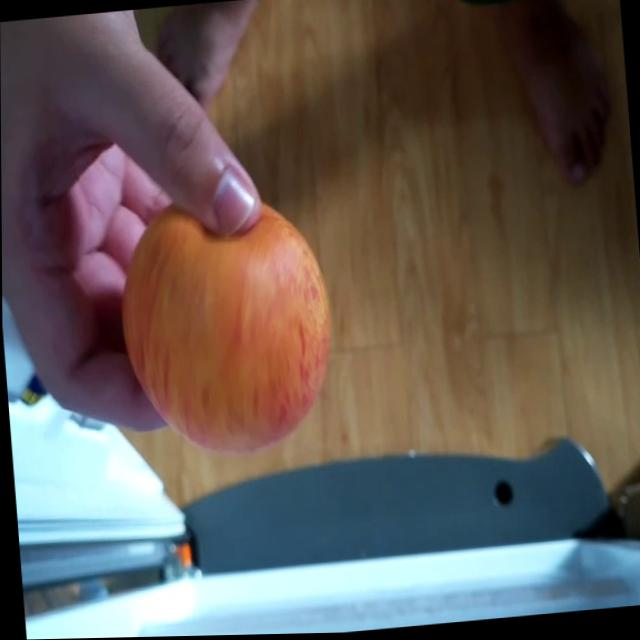apple: (104, 194, 338, 463)
